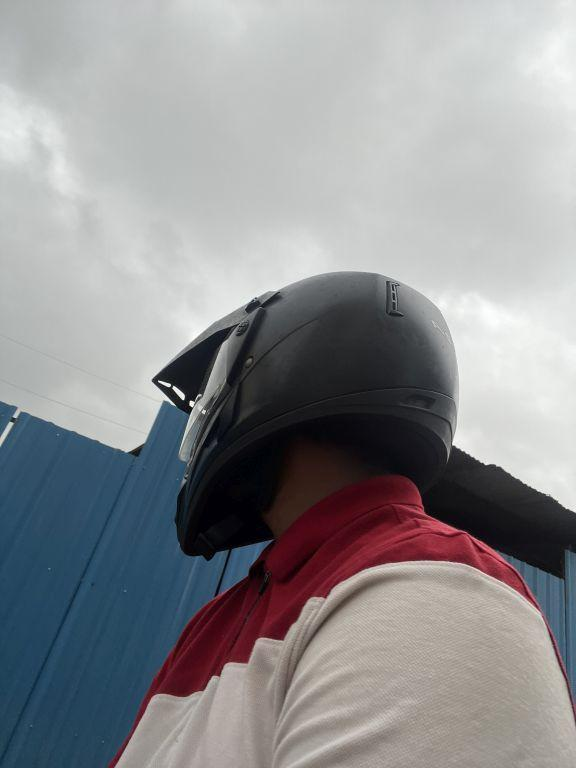helmet: (137, 257, 469, 571)
